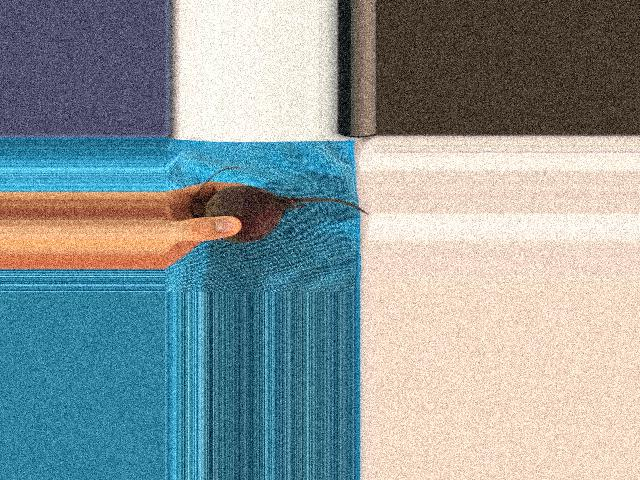beet: (191, 168, 369, 243)
